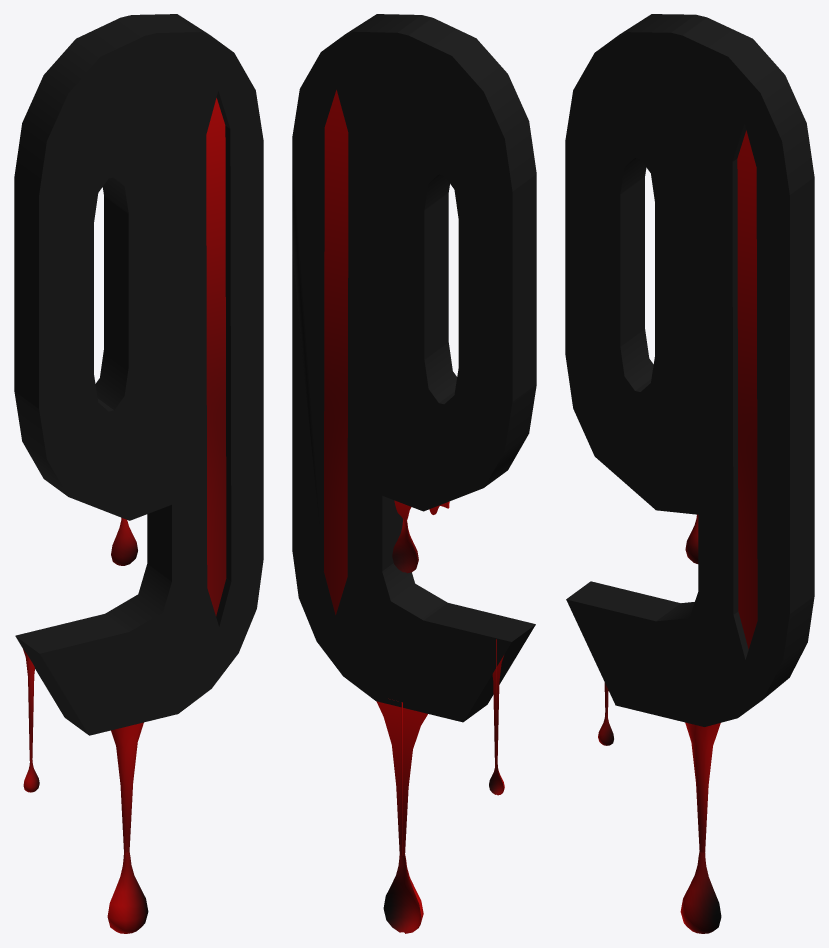
The picture shows the model from 3 angles, left to right: view 1: azimuth 30°, elevation 25°; view 2: azimuth 150°, elevation 25°; view 3: azimuth 330°, elevation 25°; orthographic projection.
Parts seen in each view (by area): view 1: 9, 9_Element, Blood_398, Blood_430, Blood_431; view 2: 9, 9_Element, Blood_398, Blood_431, Blood_430; view 3: 9, 9_Element, Blood_398.
Boxes of the visible parts, x1=… form: 9: x1=14, y1=14, x2=263, y2=735; 9_Element: x1=206, y1=98, x2=226, y2=616; Blood_398: x1=107, y1=722, x2=148, y2=933; Blood_430: x1=23, y1=649, x2=39, y2=792; Blood_431: x1=111, y1=517, x2=137, y2=565; 9: x1=292, y1=14, x2=536, y2=722; 9_Element: x1=324, y1=90, x2=348, y2=614; Blood_398: x1=376, y1=701, x2=427, y2=933; Blood_431: x1=392, y1=500, x2=449, y2=573; Blood_430: x1=489, y1=639, x2=504, y2=795; 9: x1=565, y1=14, x2=814, y2=726; 9_Element: x1=737, y1=130, x2=757, y2=649; Blood_398: x1=680, y1=722, x2=721, y2=933.
Size of the model in its own units: 26.2 by 102 by 5.04.
2 materials, 1 textured.
